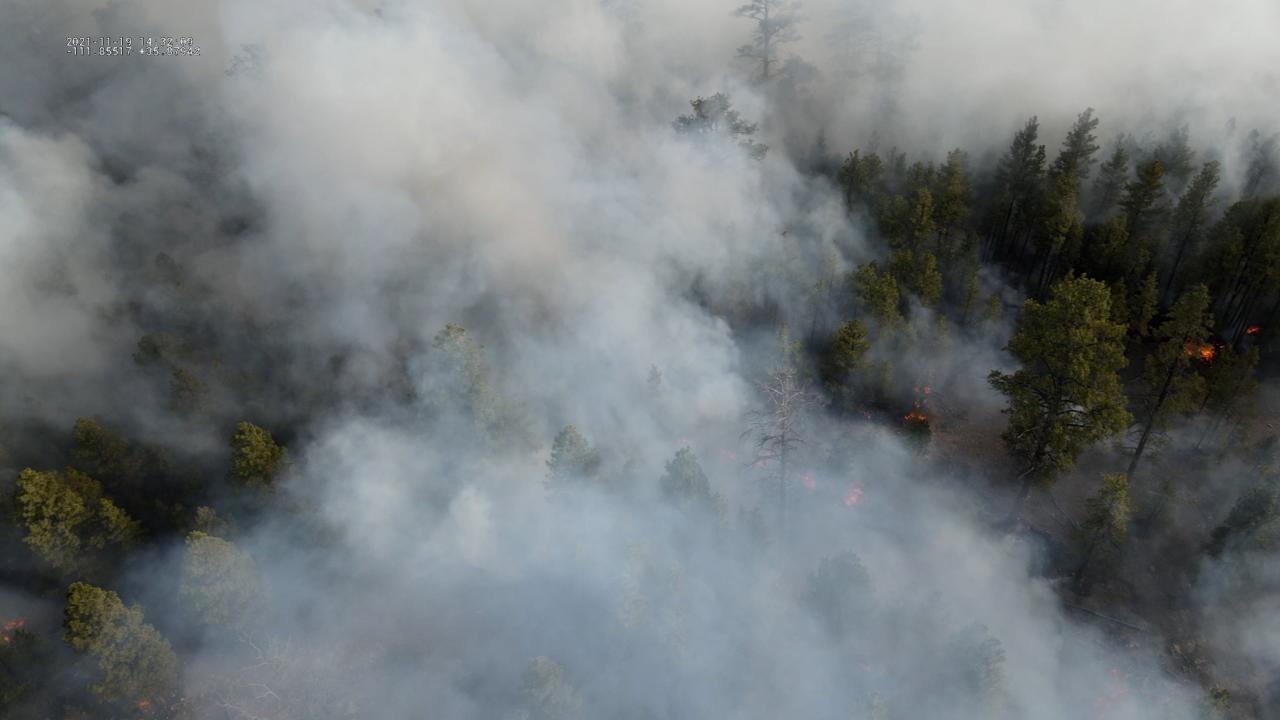fire: (1176, 339, 1216, 363), (0, 617, 26, 644), (902, 410, 928, 423), (841, 492, 859, 510), (802, 473, 817, 492), (1245, 325, 1261, 334), (138, 699, 151, 710), (912, 399, 923, 410), (924, 386, 934, 396), (913, 385, 920, 392)
smoke: (0, 0, 1280, 720)
